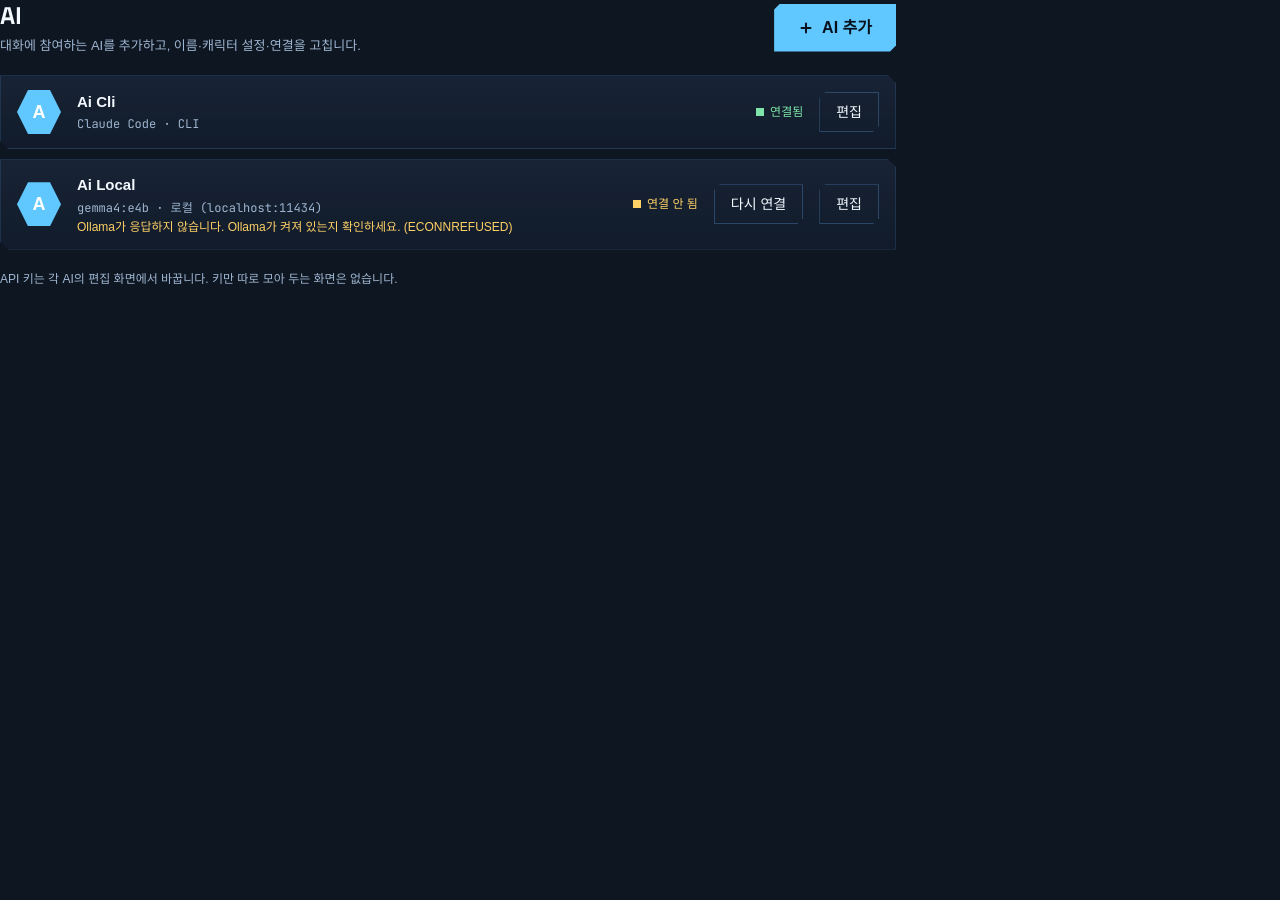
Test: AiTab — roster › "편집" opens that AI's edit dialog
Click the button with test id "settings-ai-edit" at (849,112), box [819,92,879,132]
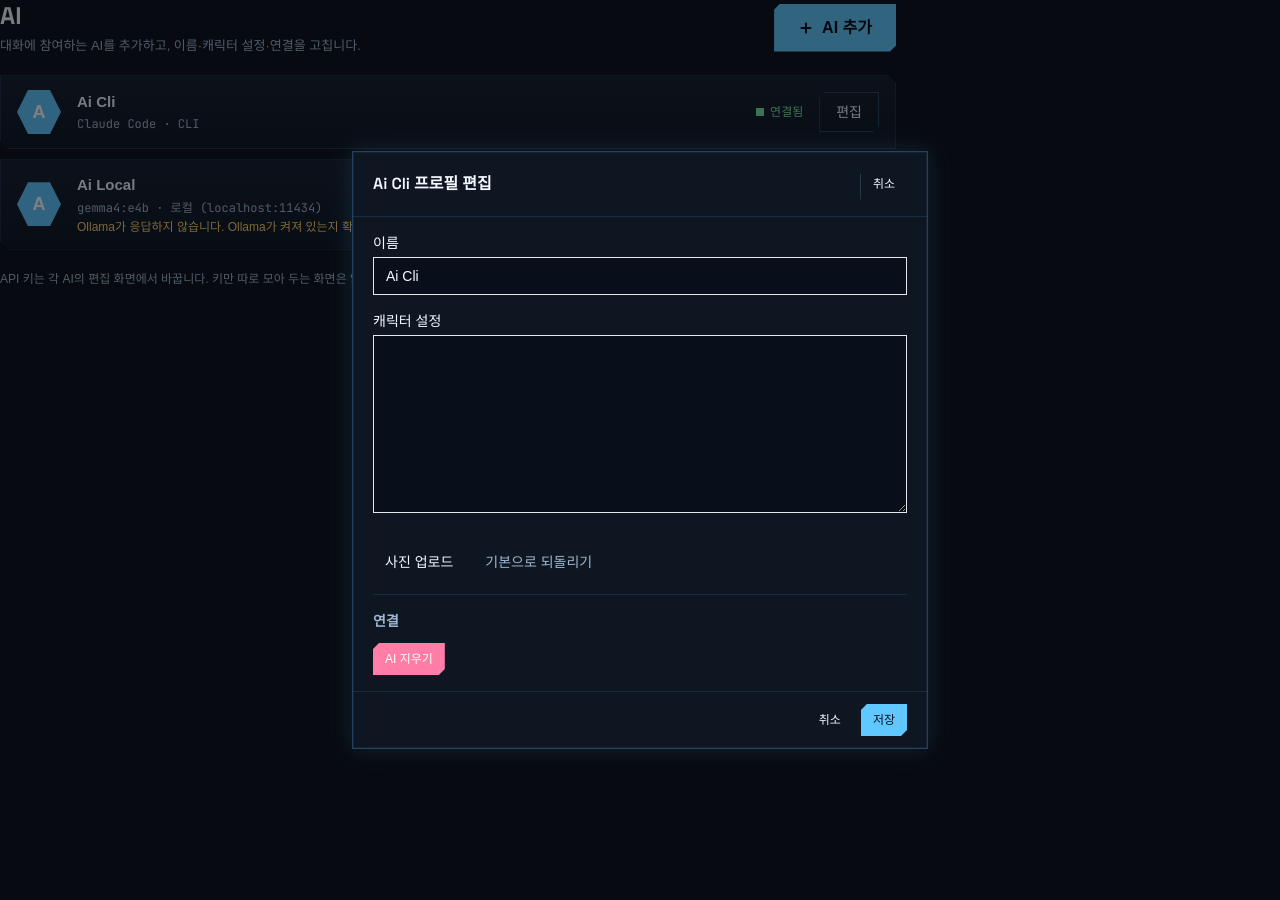
Check: the dialog with test id "profile-editor-dialog" is shown, box [352,151,928,749]
